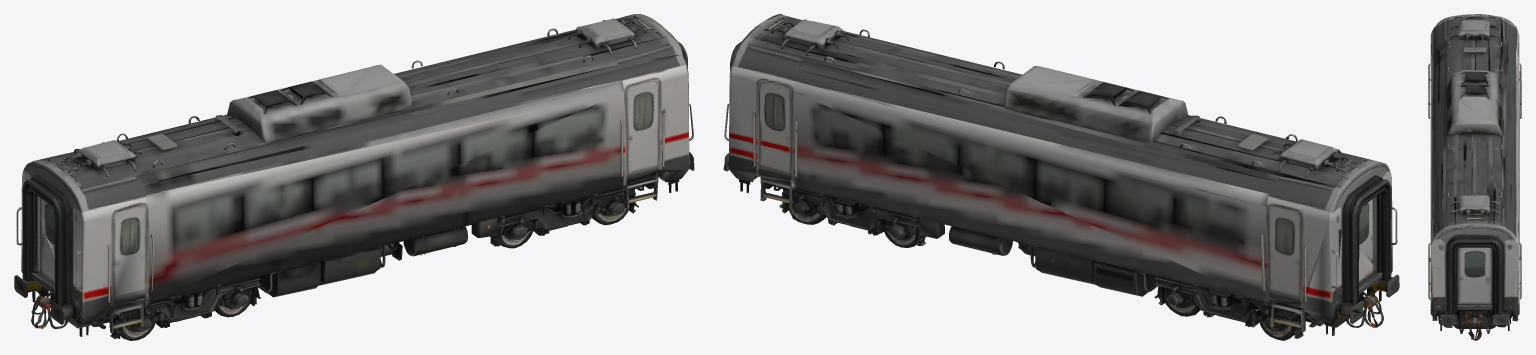
File: wagon.glb
3 renders of one model, left to right at view 1: azimuth 30°, elevation 25°; view 2: azimuth 150°, elevation 25°; view 3: azimuth 270°, elevation 25°, orthographic. The views are drawn at different scales.
Size of the model in its own units: 0.9556 by 0.2705 by 0.1675.
1 material, 1 textured.
